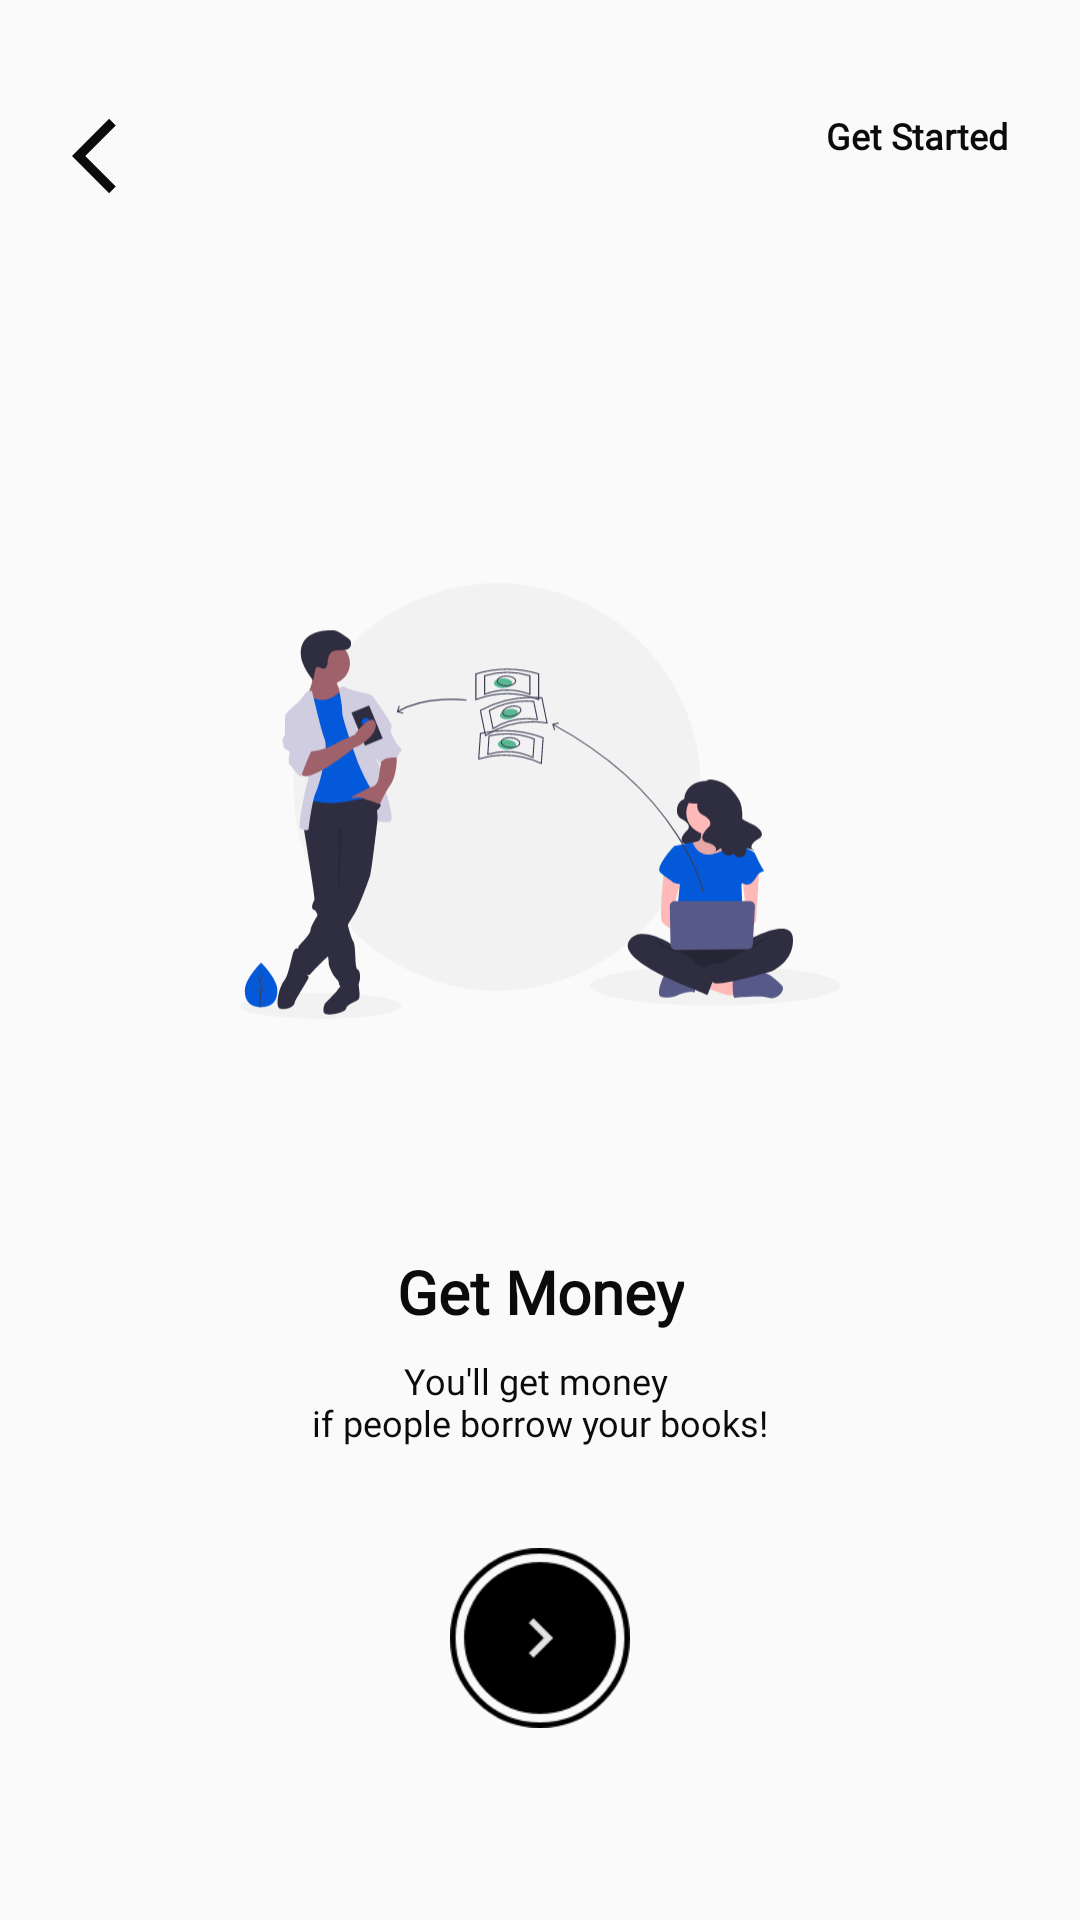

Where icons sit on this 1080w x 1920h app screen, as bbox=(x1, y1, x2, y2):
Back: bbox=(72, 119, 116, 193)
Next: bbox=(450, 1548, 630, 1728)
